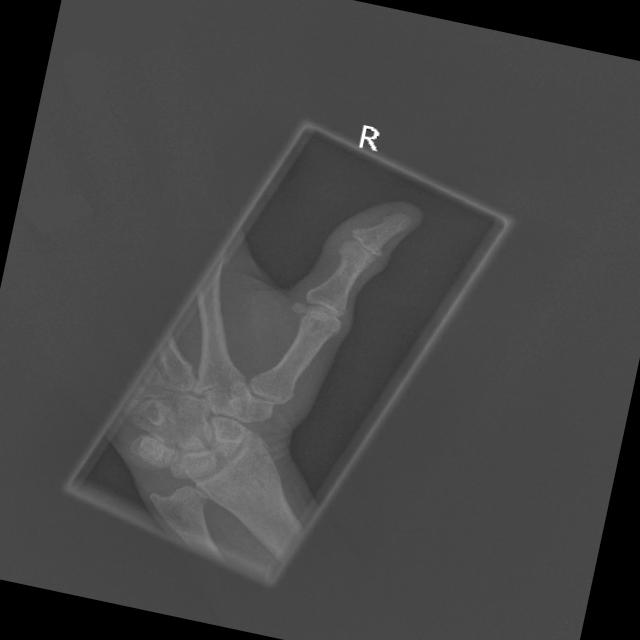fingers positive: (290, 305, 350, 350), (332, 234, 383, 276)
